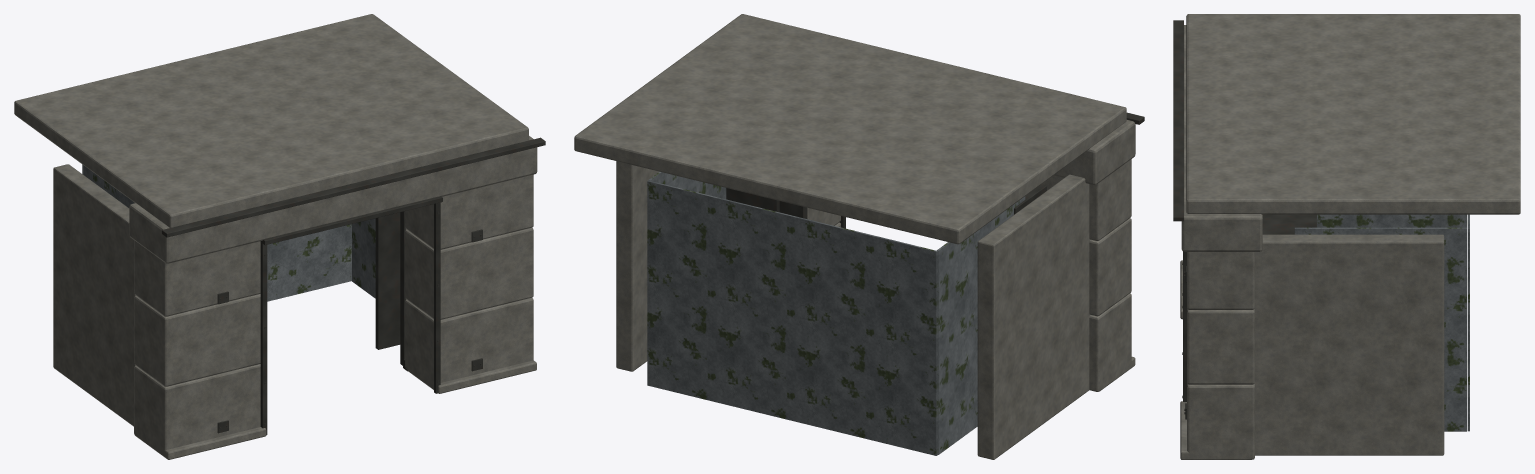
Rendered from EXIT_Headwall.fbx.
3 renders of one model, left to right at view 1: azimuth 30°, elevation 25°; view 2: azimuth 150°, elevation 25°; view 3: azimuth 270°, elevation 25°, orthographic. The views are drawn at different scales.
Parts seen in each view (by area): view 1: EXIT_Headwall; view 2: EXIT_Headwall; view 3: EXIT_Headwall.
Part boxes in pixels (<box>): EXIT_Headwall: <box>14,14,545,459</box>; EXIT_Headwall: <box>574,14,1144,459</box>; EXIT_Headwall: <box>1173,14,1520,459</box>.
Size of the model in its own units: 7.7 by 4.7 by 5.74.
